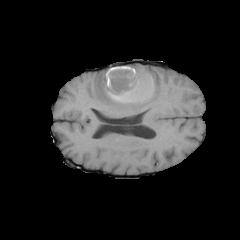glioma: (92, 64, 160, 114)
